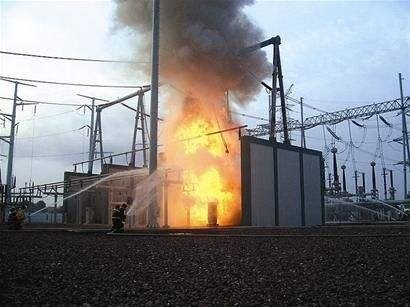fire: (183, 164, 230, 214), (178, 118, 224, 155)
